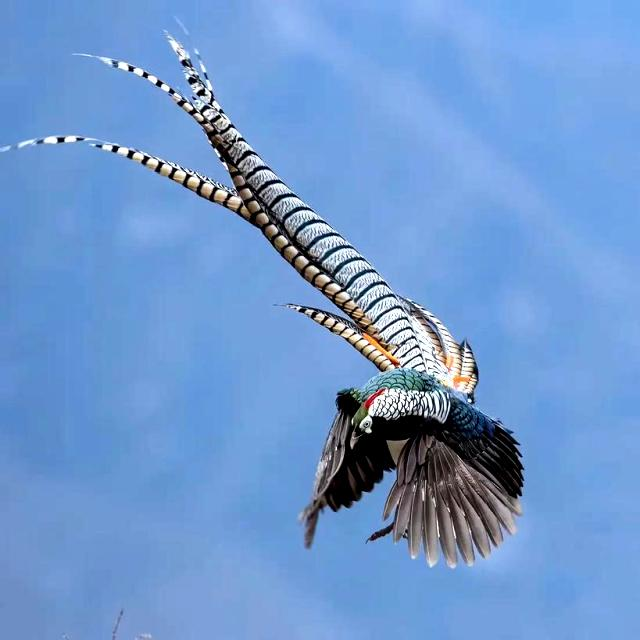Chrysolophus amherstiae: (101, 39, 477, 393), (349, 272, 359, 282)
